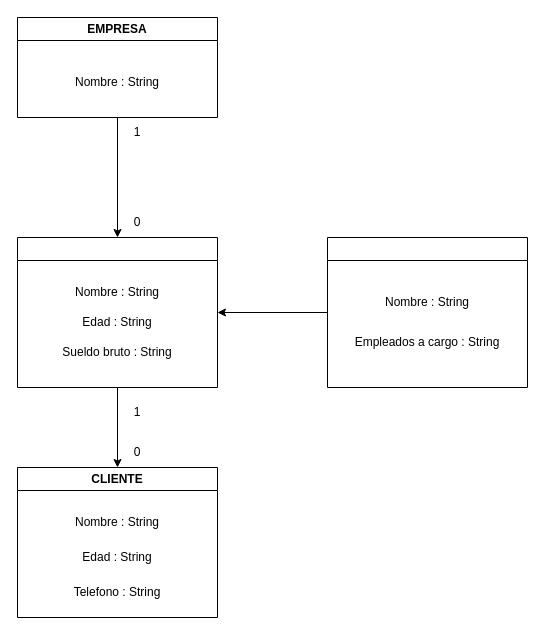
This 545x635 diagram has some shape labels left out. Each missing label, with the box of its shape:
DIRECTIVO: (326, 236, 528, 388)
EMPLEADO: (16, 236, 218, 388)
